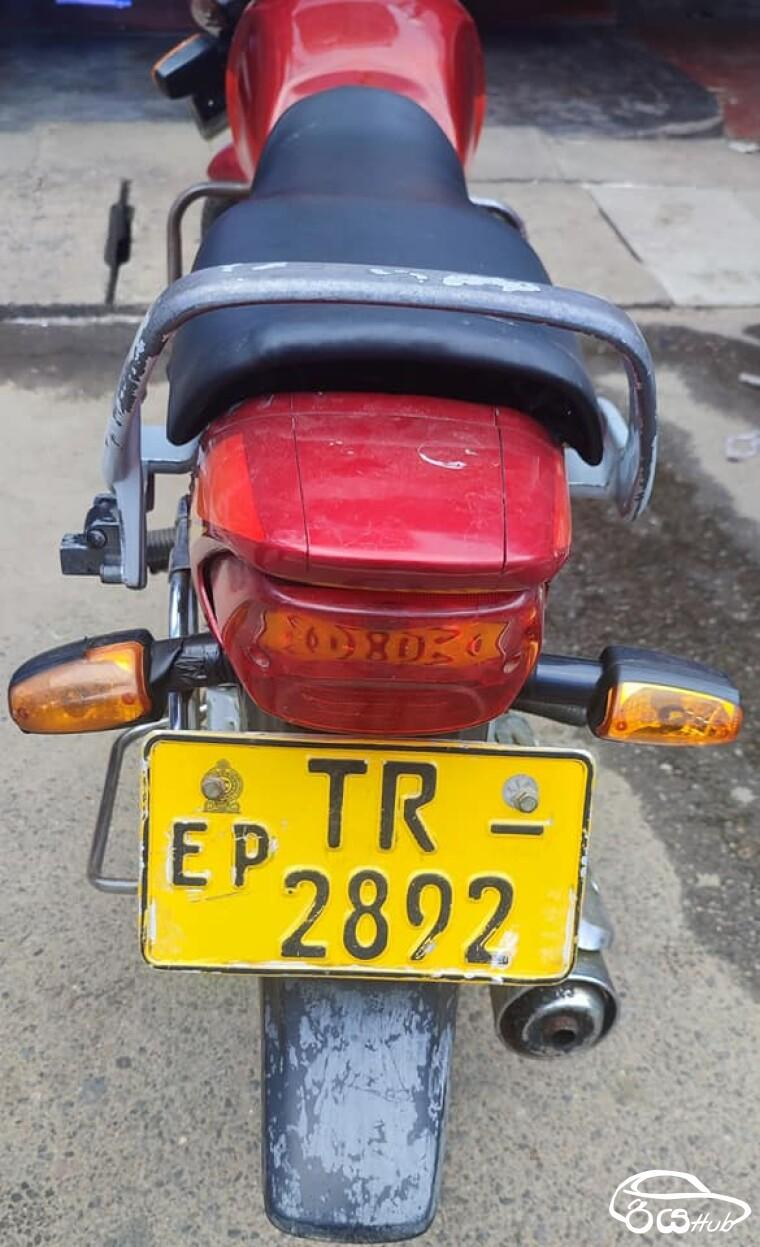motorbike: (10, 7, 746, 1239)
